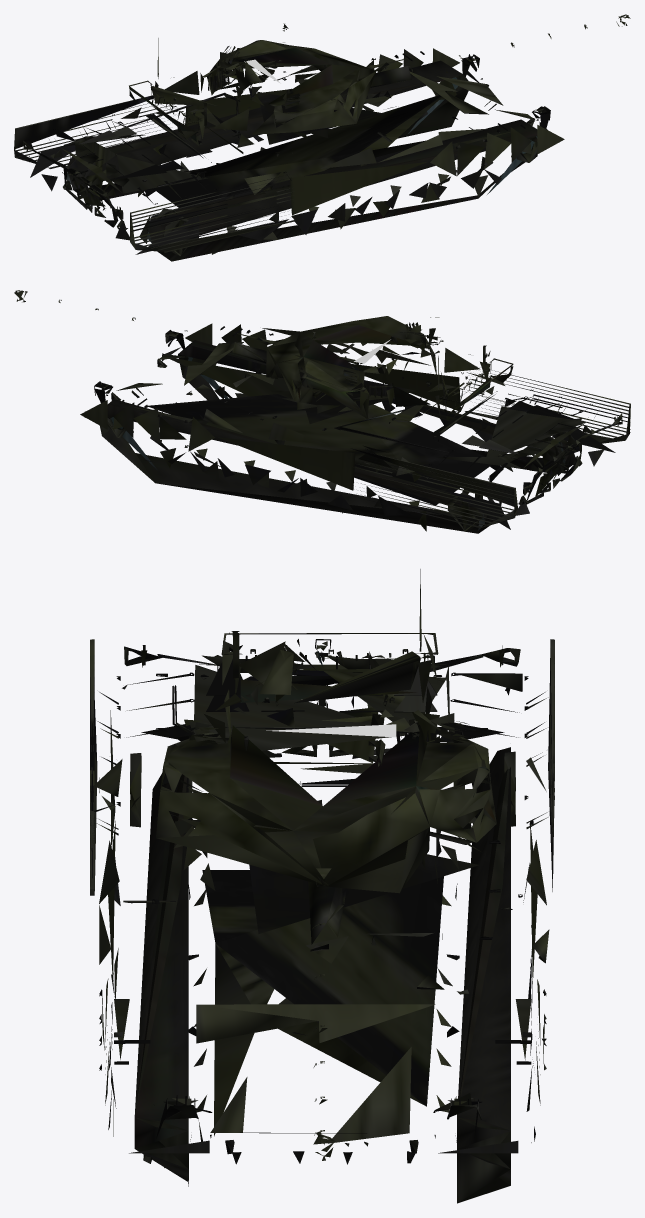
Rendered from armata_lo.glb.
The picture shows the model from 3 angles, top to bottom: view 1: azimuth 30°, elevation 25°; view 2: azimuth 150°, elevation 25°; view 3: azimuth 270°, elevation 25°; orthographic projection. The views are drawn at different scales.
Visible parts, largest first — view 1: g_armata_hull, g_armata_turret, g_armata_gun; view 2: g_armata_hull, g_armata_turret, g_armata_gun; view 3: g_armata_hull, g_armata_turret, g_armata_gun.
Boxes of the visible parts, x1=… form: g_armata_hull: x1=14, y1=48, x2=564, y2=261; g_armata_turret: x1=129, y1=23, x2=389, y2=144; g_armata_gun: x1=348, y1=14, x2=630, y2=87; g_armata_hull: x1=80, y1=323, x2=630, y2=533; g_armata_turret: x1=256, y1=316, x2=513, y2=423; g_armata_gun: x1=14, y1=290, x2=301, y2=371; g_armata_hull: x1=90, y1=639, x2=554, y2=1203; g_armata_turret: x1=156, y1=569, x2=496, y2=933; g_armata_gun: x1=308, y1=881, x2=346, y2=1160.
Bounding box in the file's own units: 10.69 × 3.38 × 3.83.
Materials: 4 (3 with a texture image).
